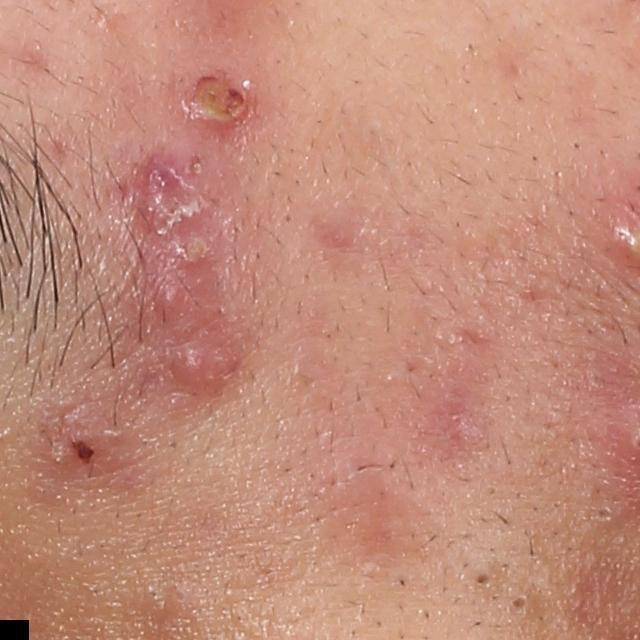comedo: (468, 565, 497, 593), (508, 591, 532, 612)
papule: (40, 403, 114, 470), (166, 332, 219, 388), (149, 274, 183, 315)
pustule: (175, 63, 259, 137), (167, 228, 215, 270)
